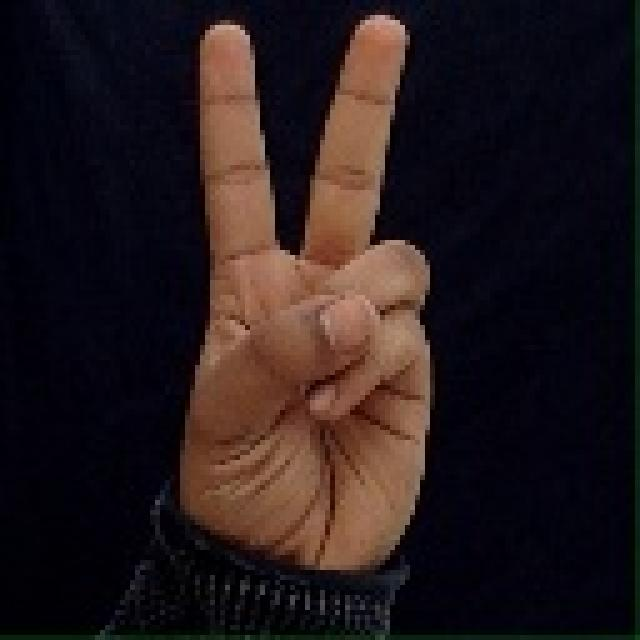Two: (145, 8, 465, 577)
